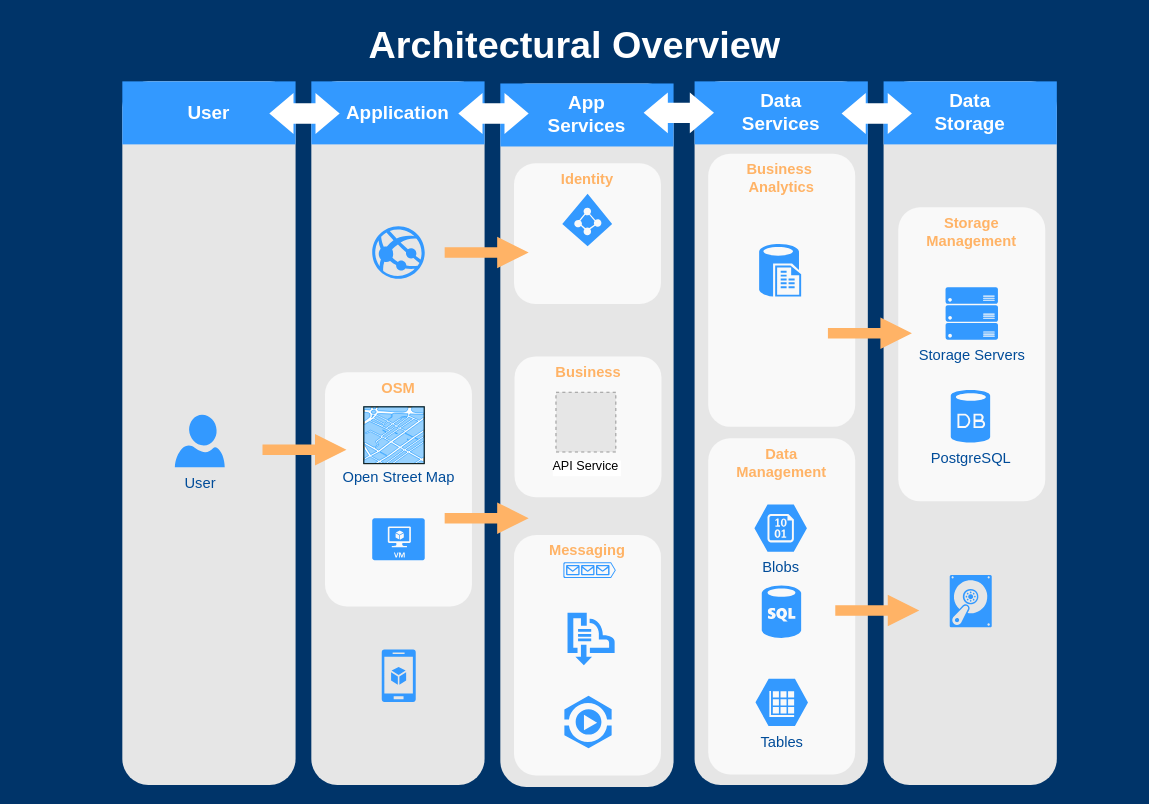
The diagram is 1149 pixels wide and 804 high, and some of its shapes have lost their labels. Grey dashed boxes stand in for pictures. The shapes that lost their labels are listed below. From the top down, each one's centre as x and y in pixels, then its label:
At point (587, 219): "Identity Service".
At point (398, 252): "Angular App".
At point (780, 270): "SQL Reporting".
At point (398, 539): "Virtual Machine".
At point (589, 570): "Queues".
At point (781, 611): "SQL Database".
At point (970, 600): "Physical Data Storage".
At point (590, 638): "Service Bus".
At point (398, 675): "Flutter App".
At point (587, 721): "Media Services".
